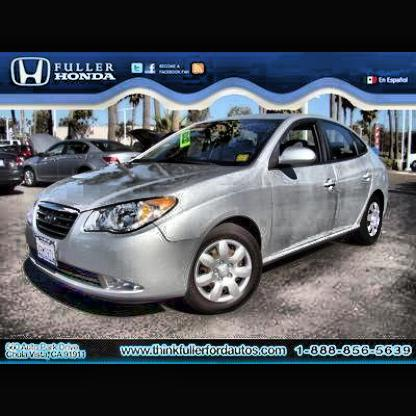Hyundai Elantra Sedan 2007: (28, 115, 388, 317)
